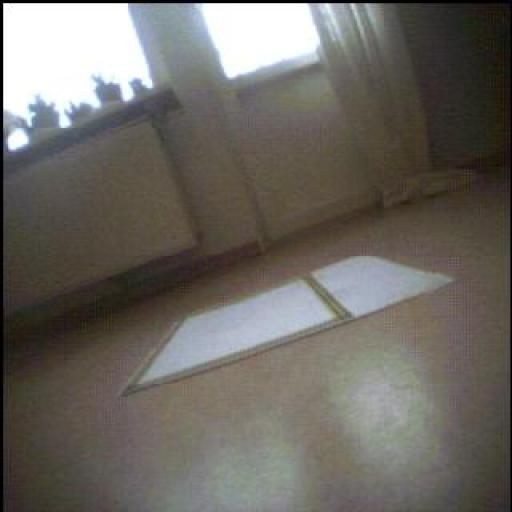Pad: (124, 257, 452, 395)
